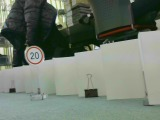speed_20: (24, 45, 45, 66)
